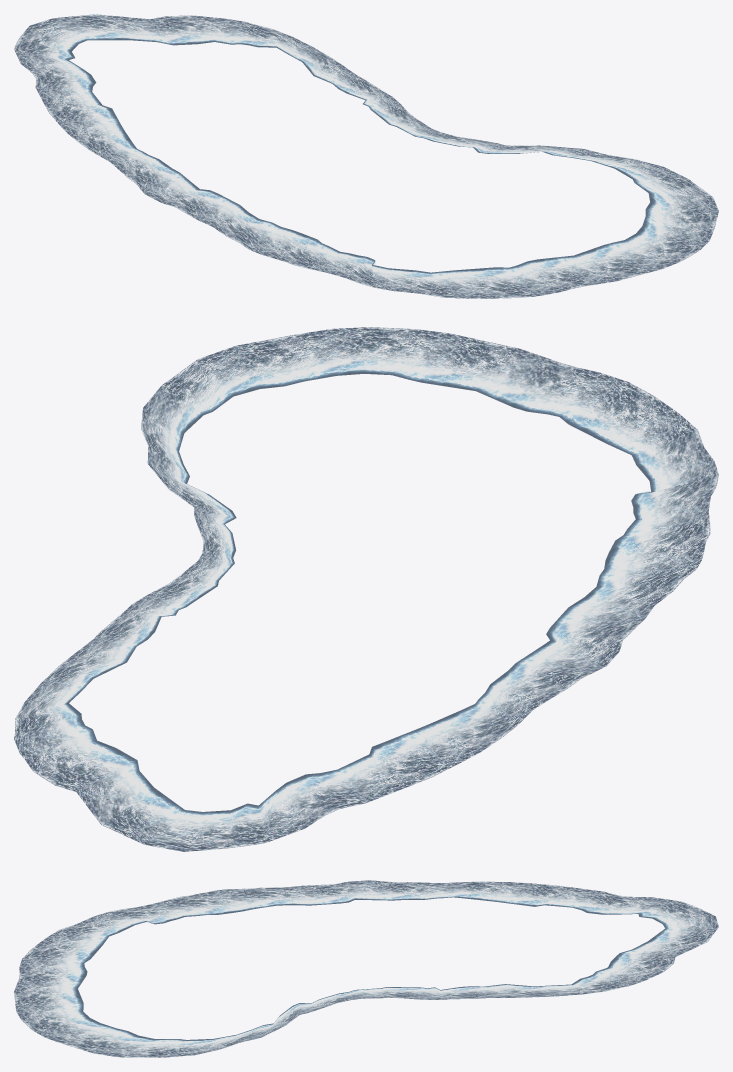
Rendered from island_07_coast.fbx.
3 renders of one model, top to bottom at view 1: azimuth 30°, elevation 25°; view 2: azimuth 150°, elevation 25°; view 3: azimuth 270°, elevation 25°, orthographic. The views are drawn at different scales.
Parts seen in each view (by area): view 1: island_07_coast1; view 2: island_07_coast1; view 3: island_07_coast1.
Part boxes in pixels (x1,y1,x2,y2): island_07_coast1: (14, 14, 718, 298); island_07_coast1: (14, 327, 718, 851); island_07_coast1: (14, 880, 718, 1057).
Bounding box in the file's own units: 35.28 × 0.0442 × 59.23.
